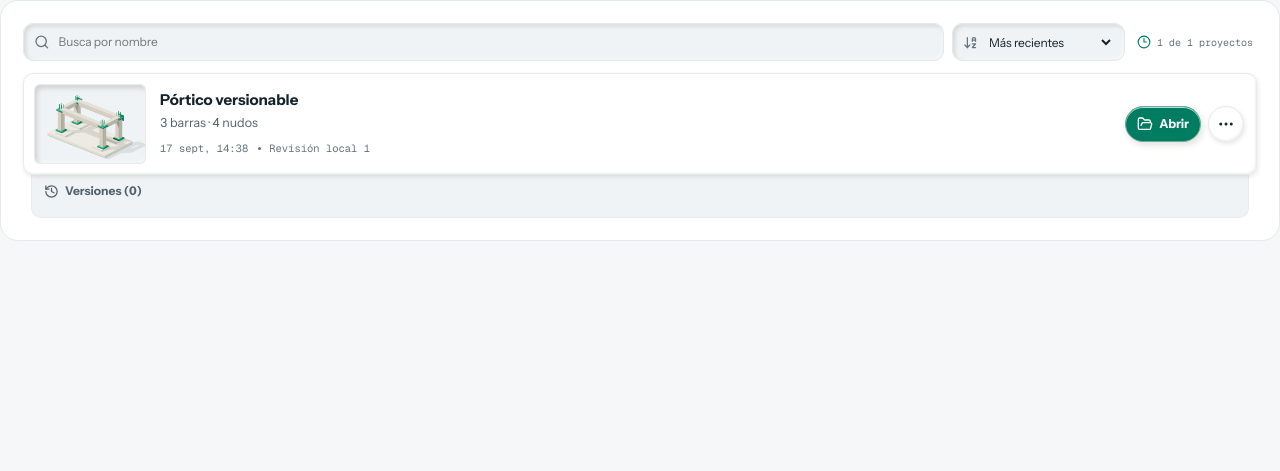
Test: ProjectHub › creates a named version separately from recoverable copies
Expected: the text "Pórtico versionable" is shown, [160,90,298,109]
Click the heading "Versiones (0)" at (93, 191), box [44,183,142,198]
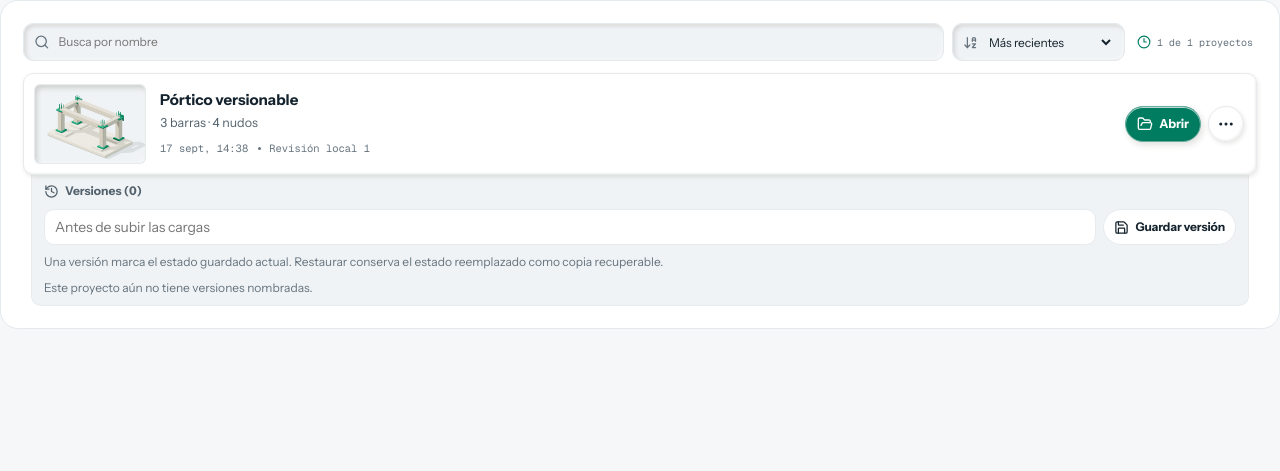
Type "Antes de editar" into the field named "Nombre de la versión" at (570, 227), box [44,209,1096,245]
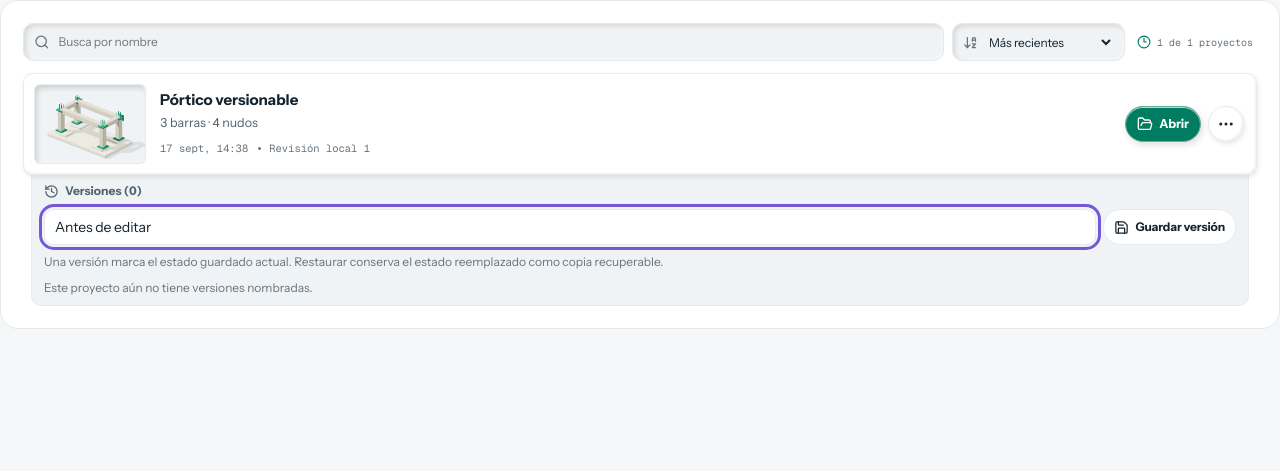
Click the button "Guardar versión" at (1170, 227), box [1103,209,1236,245]
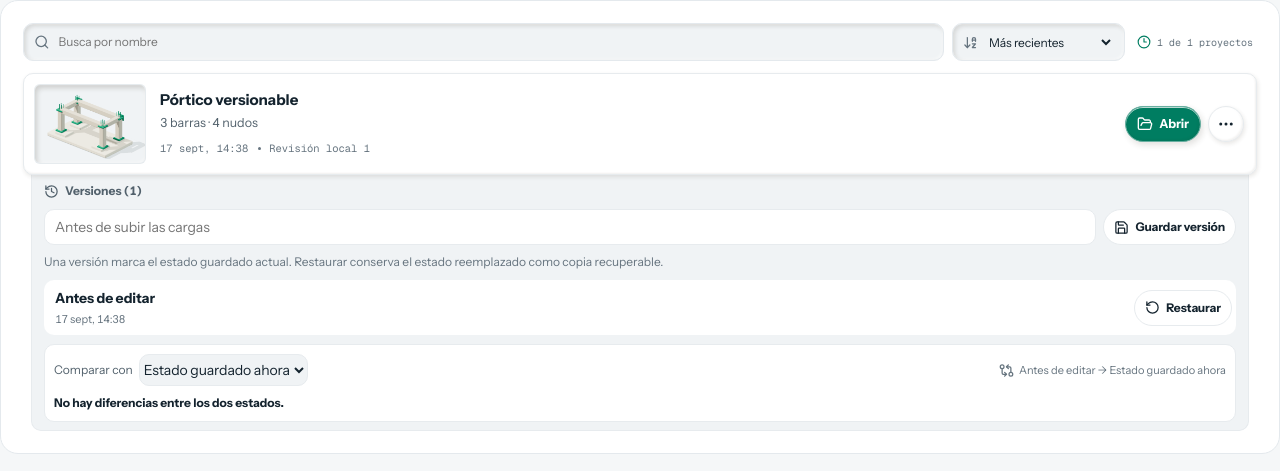
Expected: the button "Antes de editar 17 sept, 14:38" is shown, [48,284,1127,331]
Expected: the text "No hay diferencias entre los dos estados." is shown, [54,395,284,410]
